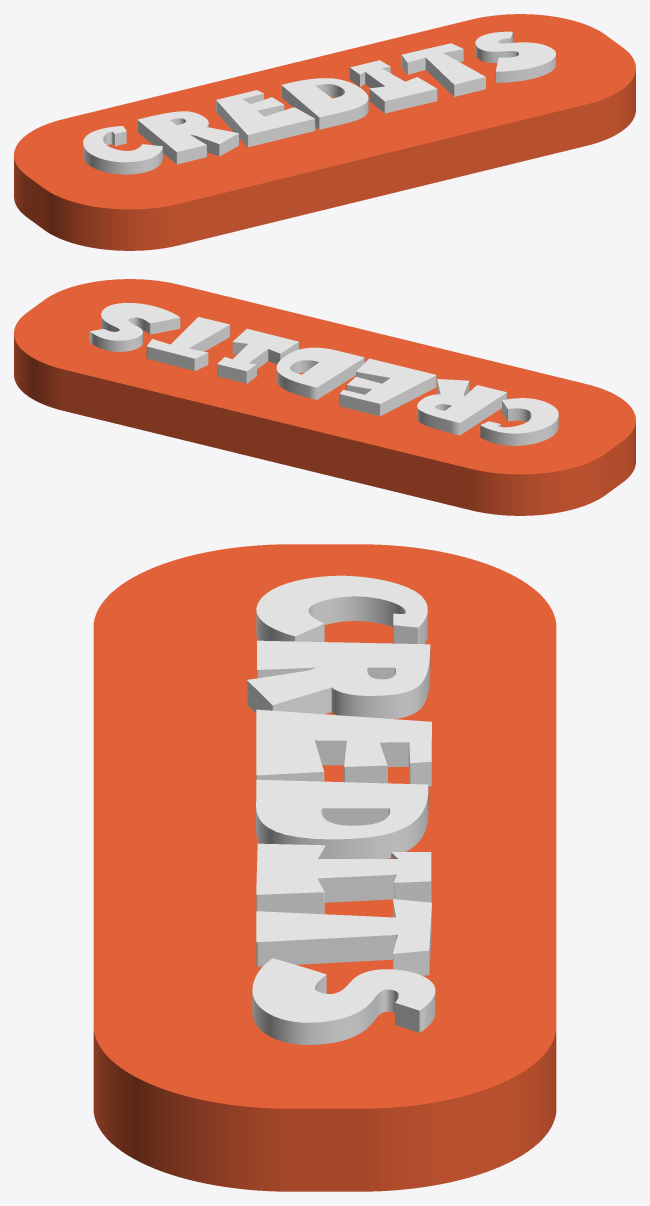
File: credits_button.fbx
The picture shows the model from 3 angles, top to bottom: view 1: azimuth 30°, elevation 25°; view 2: azimuth 150°, elevation 25°; view 3: azimuth 270°, elevation 25°; orthographic projection. The views are drawn at different scales.
Parts seen in each view (by area): view 1: Cube.001, credit, kebash-botton.001; view 2: Cube.001, credit, kebash-botton.001; view 3: Cube.001, credit, kebash-botton.001.
Part boxes in pixels (box(x1,y1,x2,y2)): Cube.001: box(14, 14, 635, 250); credit: box(83, 43, 485, 174); kebash-botton.001: box(475, 31, 555, 82); Cube.001: box(14, 279, 635, 515); credit: box(146, 317, 558, 445); kebash-botton.001: box(89, 303, 180, 351); Cube.001: box(93, 544, 556, 1191); credit: box(247, 575, 431, 975); kebash-botton.001: box(252, 958, 435, 1044).
Bounding box in the file's own units: 831 × 73.81 × 288.
